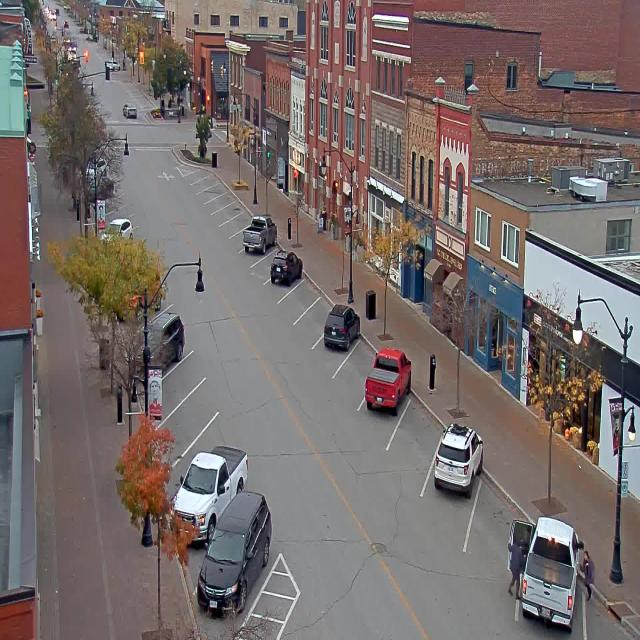available: (471, 476, 528, 557), (397, 384, 448, 464), (577, 579, 633, 640), (174, 367, 226, 420), (189, 403, 244, 451), (341, 326, 381, 386), (166, 338, 212, 385), (248, 231, 282, 288), (288, 264, 318, 318), (306, 292, 338, 336), (222, 204, 254, 242), (218, 199, 242, 224), (213, 187, 232, 210), (204, 179, 222, 201), (189, 166, 210, 184), (198, 172, 215, 194)
occupied: (196, 490, 272, 617), (170, 444, 249, 547), (520, 515, 584, 630), (434, 421, 484, 497), (364, 346, 412, 414), (143, 308, 185, 366), (323, 303, 360, 352), (242, 214, 277, 254), (270, 249, 303, 286)
